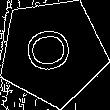O_E: (24, 27, 81, 77)
